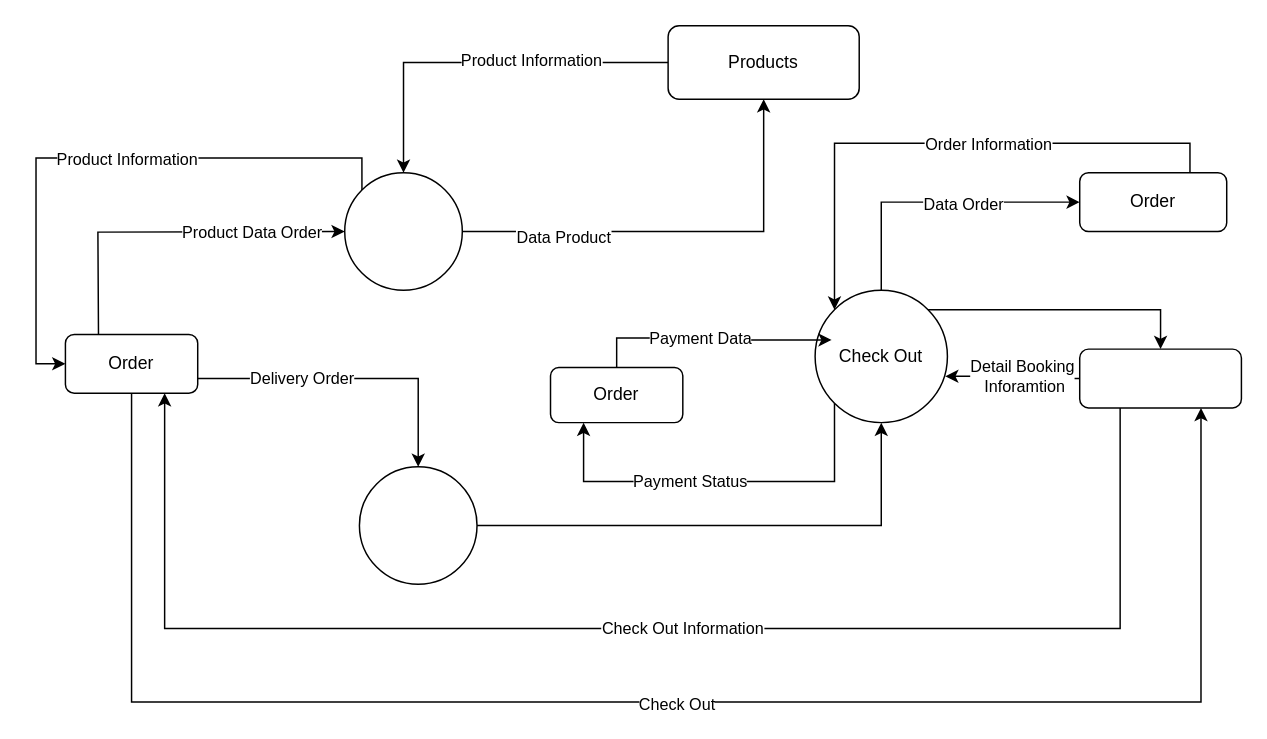
Some shapes in this 1267 by 739 pixel diagram are drawn without their labels. The box of each missing label's shape, as (x1, y1, x2, y2) in pixels:
delivery data: (358, 465, 477, 584)
Ordering Details: (1078, 348, 1241, 408)
shopping cart: (343, 171, 462, 290)
